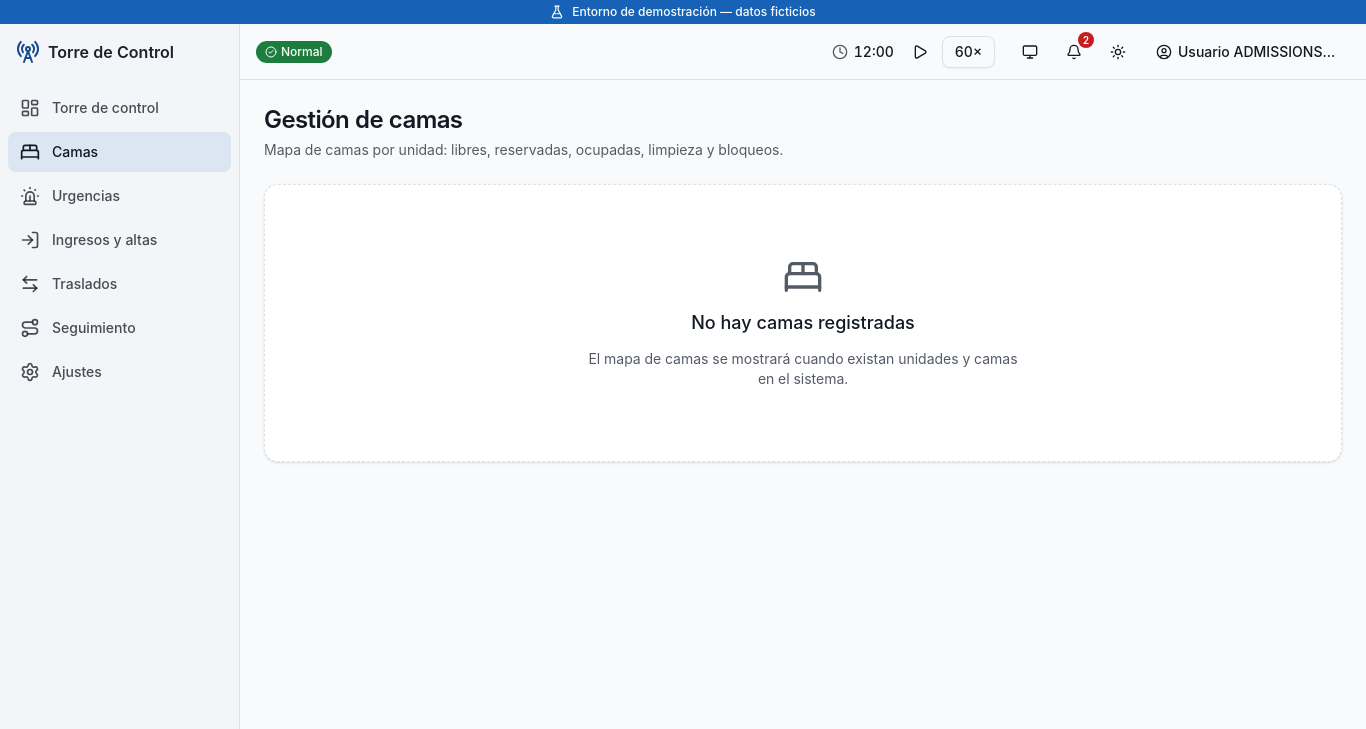
Test: alert centre › an alert link goes to its area and closes the centre
What coordinates should you click on to do the following:
click the button named "Alertas: 2 alertas sin reconocer (crítica)"
I would click on:
 (1074, 52)
Its box is [1056,34,1092,70].
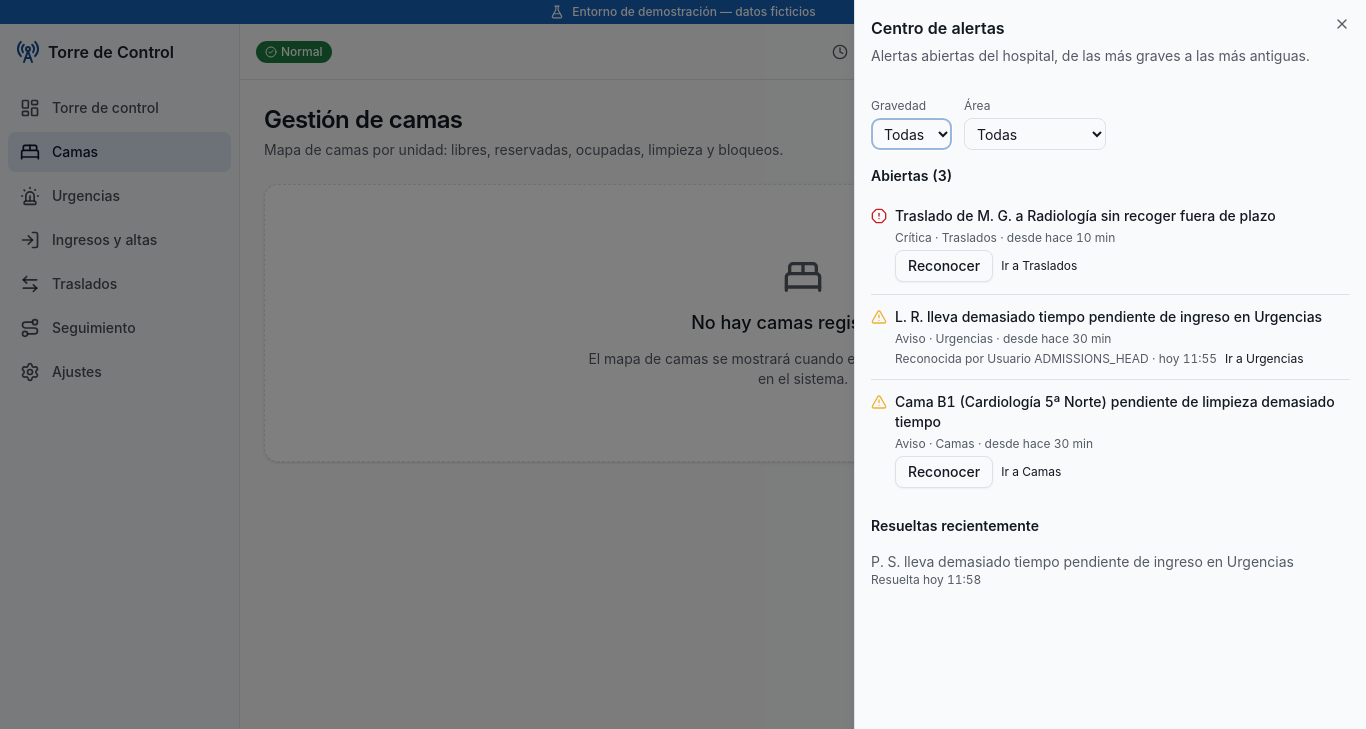
What coordinates should you click on to do the following:
click the link "Ir a Traslados"
I would click on:
 (1039, 266)
Its box is [1001,258,1077,274].
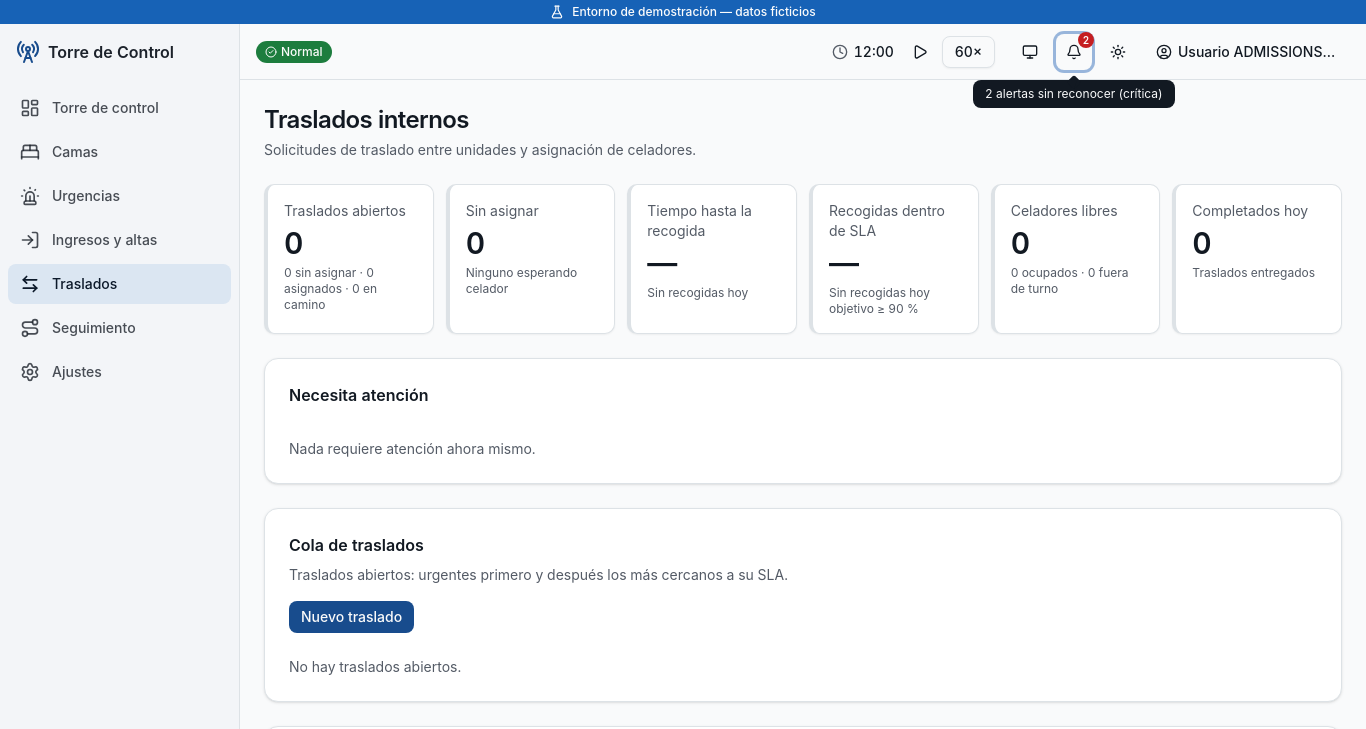
Now the heading "Traslados internos" is shown, box [264,105,469,134]
Now the heading "Centro de alertas" is gone
